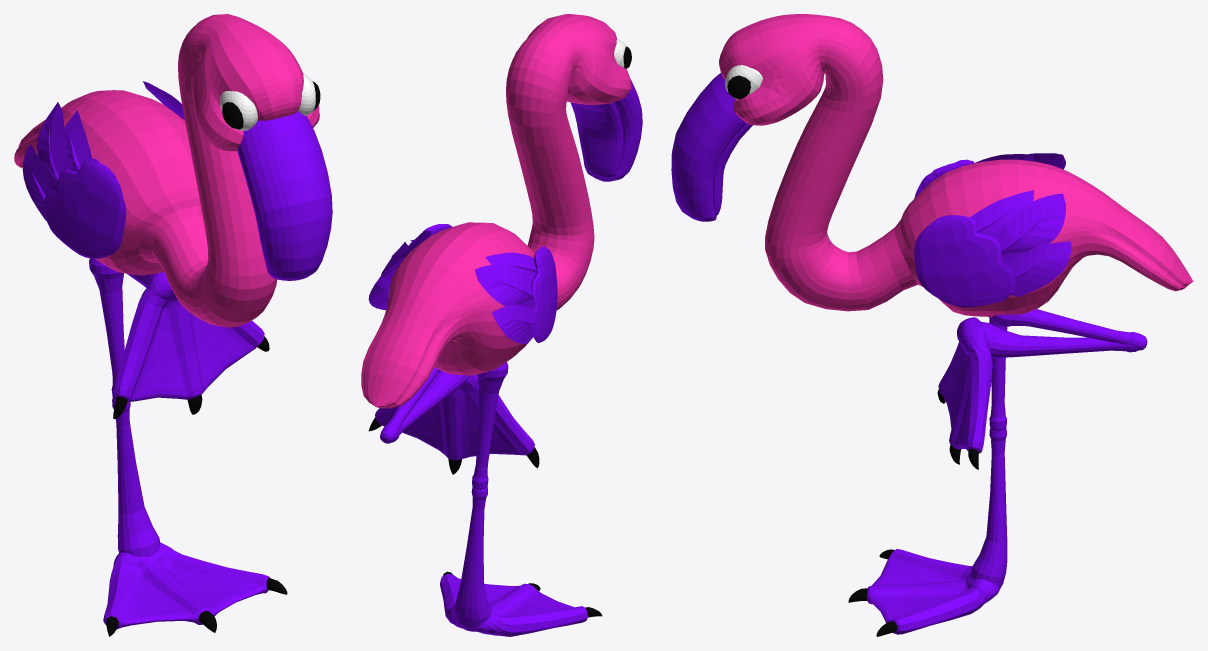
File: flamingo.obj
3 views of the same model, side by side, from view 1: azimuth 30°, elevation 25°; view 2: azimuth 150°, elevation 25°; view 3: azimuth 270°, elevation 25° (orthographic). The views are drawn at different scales.
Visible parts, largest first — view 1: body, topbeak, footl, footr, wingr, lowlegr, uplegr, feather6, feather5, feather4, eyel, eyer (+1 smaller); view 2: body, footl, footr, lowlegr, lbeak, uplegr, wingr, topbeak, feather6, lowlegl, feather5, uplegl (+2 smaller); view 3: body, footr, wingl, topbeak, footl, lowlegr, feather3, lowlegl, uplegl, feather2, feather1, uplegr (+1 smaller).
Boxes of the visible parts, x1=… form: body: x1=14, y1=14, x2=319, y2=327; topbeak: x1=237, y1=111, x2=332, y2=280; footl: x1=114, y1=271, x2=264, y2=402; footr: x1=103, y1=542, x2=269, y2=629; wingr: x1=43, y1=158, x2=126, y2=258; lowlegr: x1=112, y1=398, x2=160, y2=557; uplegr: x1=89, y1=258, x2=124, y2=399; feather6: x1=36, y1=102, x2=72, y2=189; feather5: x1=22, y1=144, x2=53, y2=220; feather4: x1=64, y1=110, x2=92, y2=171; eyel: x1=220, y1=91, x2=257, y2=130; eyer: x1=298, y1=73, x2=315, y2=115; body: x1=361, y1=14, x2=631, y2=408; footl: x1=375, y1=374, x2=534, y2=460; footr: x1=440, y1=574, x2=588, y2=636; lowlegr: x1=454, y1=486, x2=491, y2=631; lbeak: x1=572, y1=102, x2=623, y2=177; uplegr: x1=472, y1=362, x2=508, y2=489; wingr: x1=531, y1=246, x2=557, y2=342; topbeak: x1=570, y1=80, x2=642, y2=181; feather6: x1=475, y1=264, x2=534, y2=309; lowlegl: x1=392, y1=370, x2=468, y2=442; feather5: x1=492, y1=304, x2=533, y2=344; uplegl: x1=380, y1=367, x2=440, y2=443; body: x1=719, y1=14, x2=1193, y2=317; footr: x1=866, y1=549, x2=1000, y2=634; wingl: x1=914, y1=215, x2=1016, y2=307; topbeak: x1=671, y1=73, x2=746, y2=221; footl: x1=938, y1=317, x2=992, y2=453; lowlegr: x1=970, y1=428, x2=1007, y2=587; feather3: x1=994, y1=193, x2=1065, y2=264; lowlegl: x1=981, y1=321, x2=1138, y2=357; uplegl: x1=991, y1=309, x2=1147, y2=350; feather2: x1=1006, y1=241, x2=1071, y2=296; feather1: x1=970, y1=190, x2=1033, y2=237; uplegr: x1=989, y1=317, x2=1007, y2=431.
Bounding box in the file's own units: 4.71 × 13.32 × 10.74.
